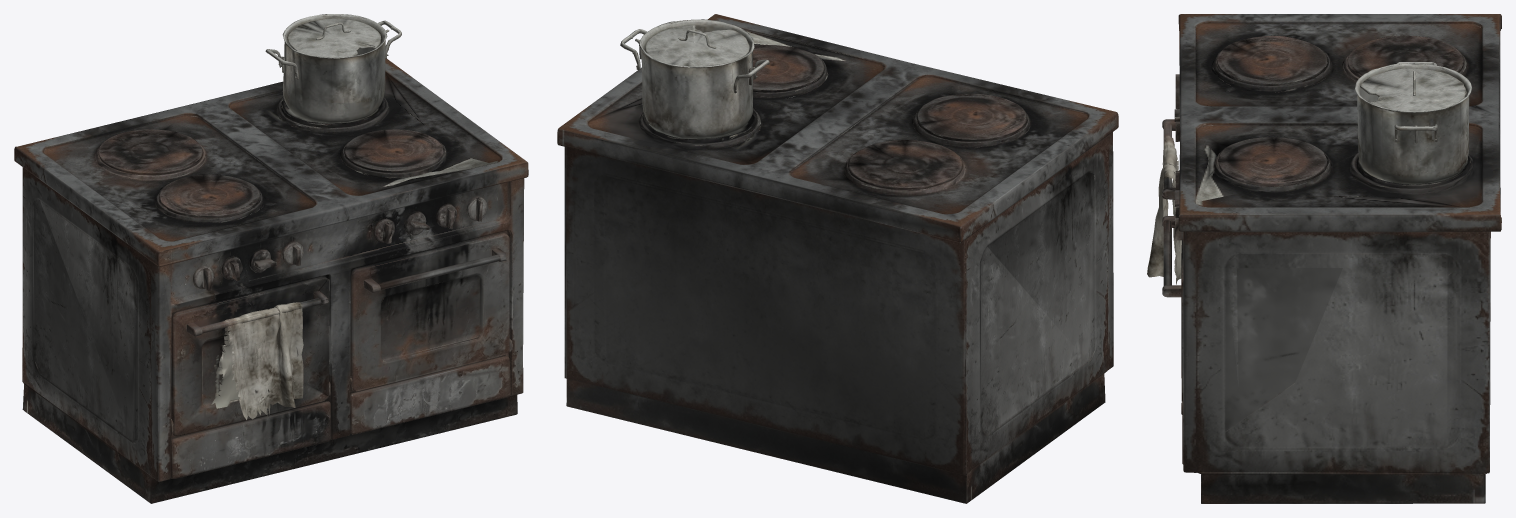
Rendered from silo81_stove.glb.
The picture shows the model from 3 angles, left to right: view 1: azimuth 30°, elevation 25°; view 2: azimuth 150°, elevation 25°; view 3: azimuth 270°, elevation 25°; orthographic projection. The views are drawn at different scales.
Size of the model in its own units: 0.9502 by 0.8364 by 0.7051.
Materials: 1 (1 with a texture image).
